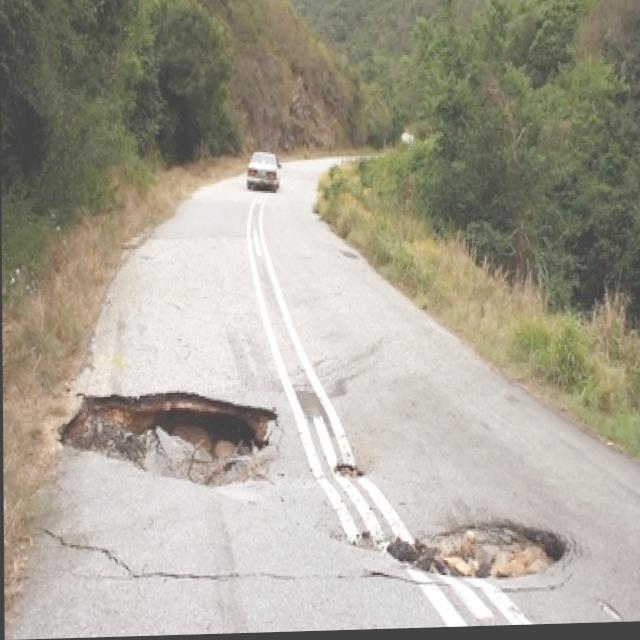Pothole: (61, 392, 278, 485), (388, 521, 568, 577), (328, 462, 364, 477)
